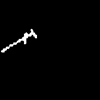double_crochet: (1, 29, 36, 51)
